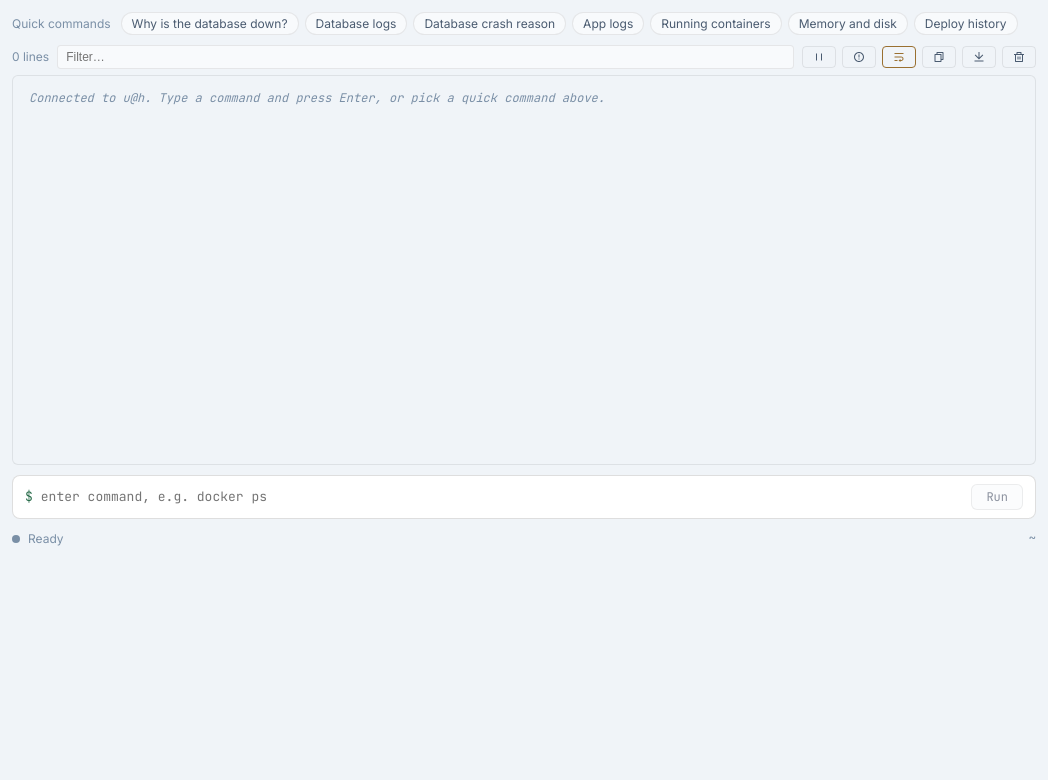
Test: RemoteTerminal › shows a clear error when the command cannot be started
Type "ls" into the field labelled "command".
click(502, 497); type("ls")  # box [41,487,963,507]
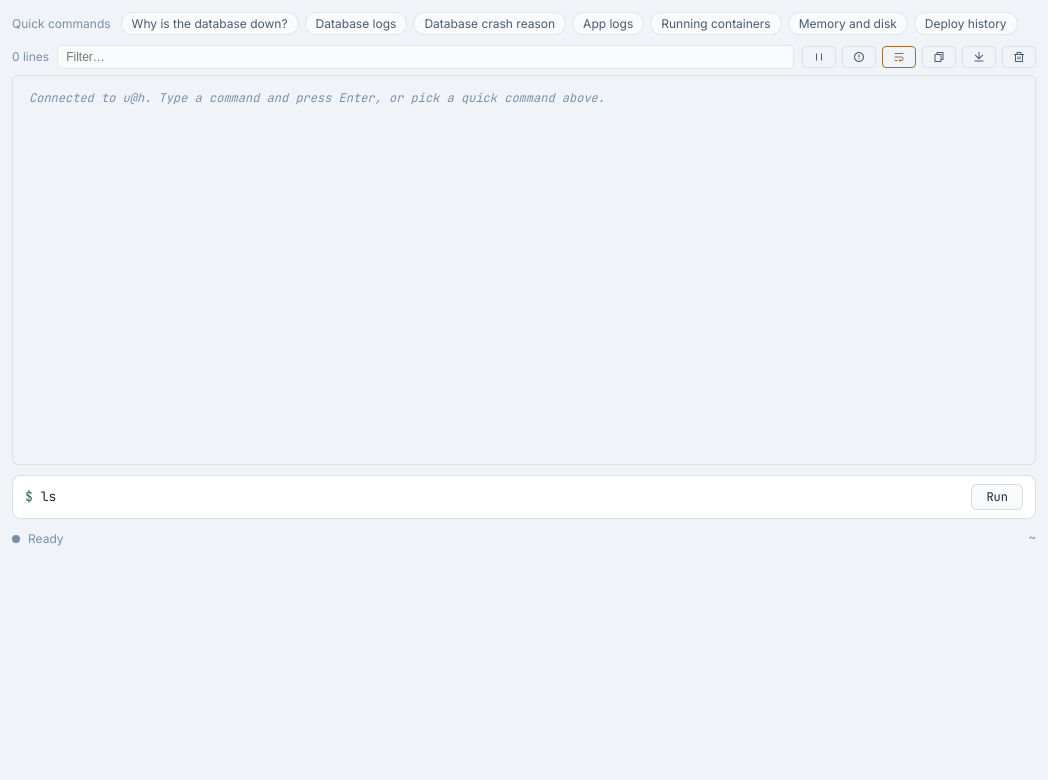
Press Enter in the field named "command", box [41,487,963,507]
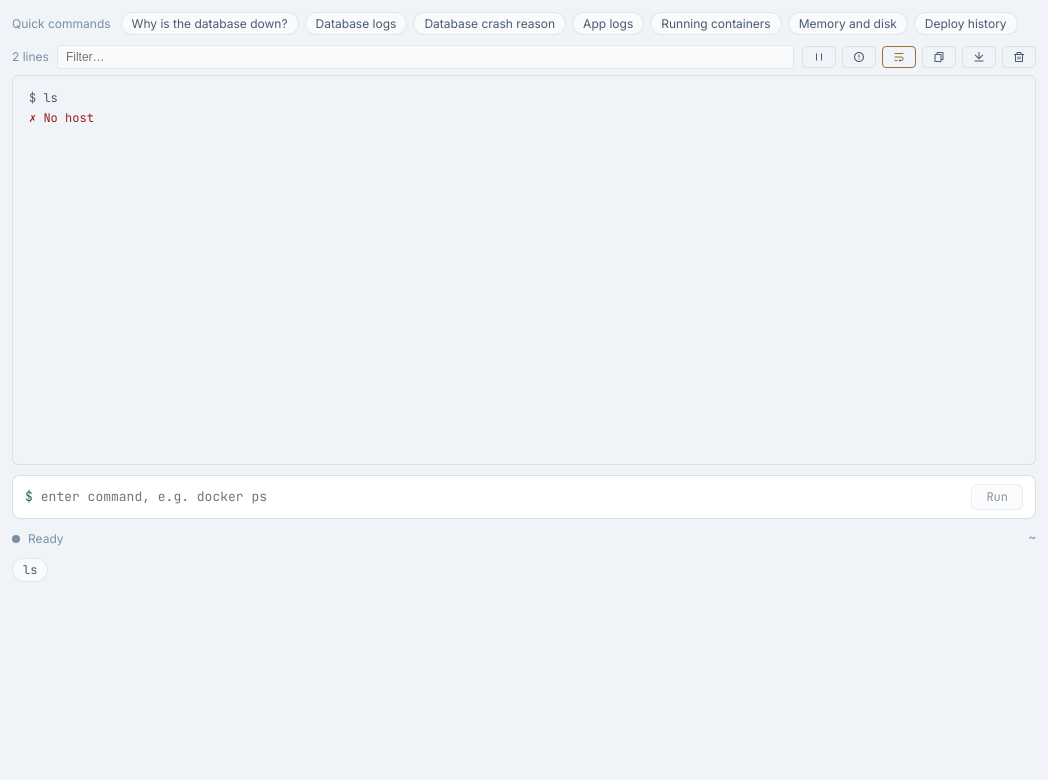
expect the text "✗ No host" is shown: met, box [29,110,94,126]
